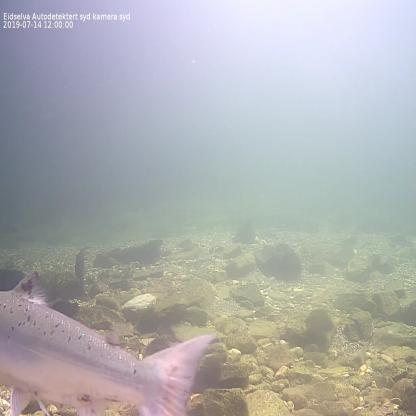salmon: (0, 268, 221, 416)
